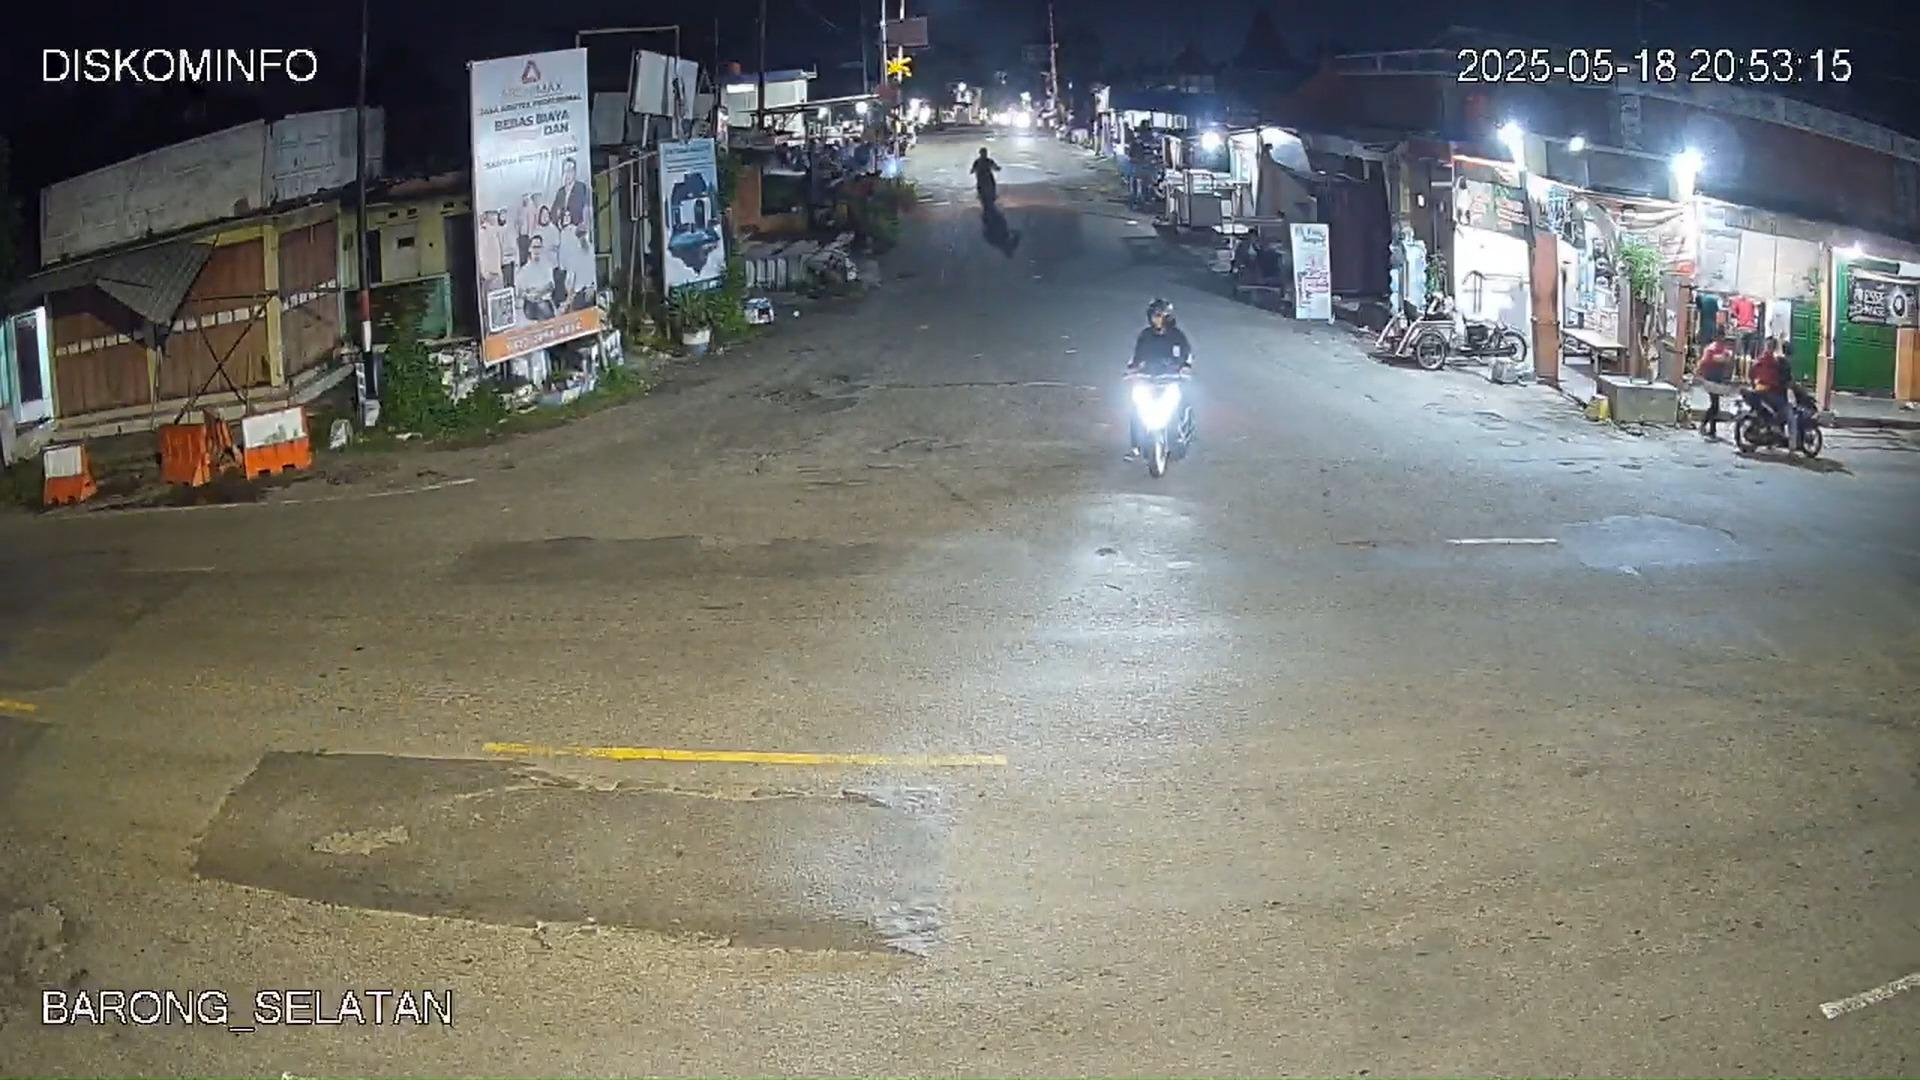Motor: (1118, 355, 1200, 480)
